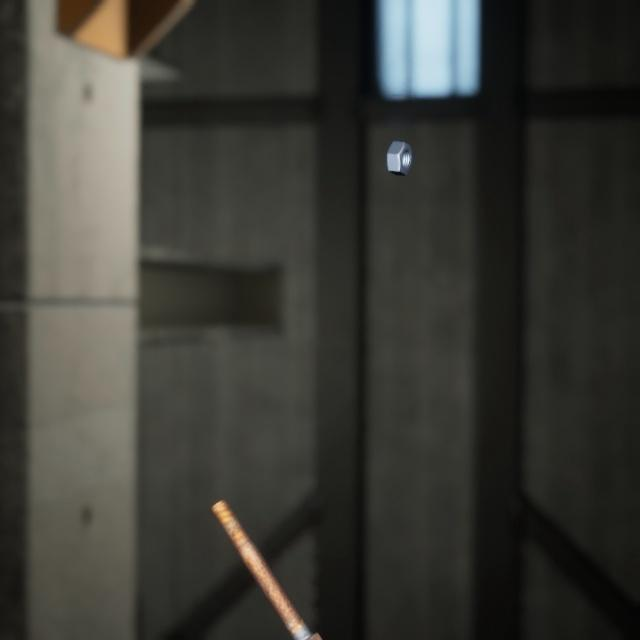bolt: (206, 471, 327, 638)
nut: (382, 124, 417, 167)
